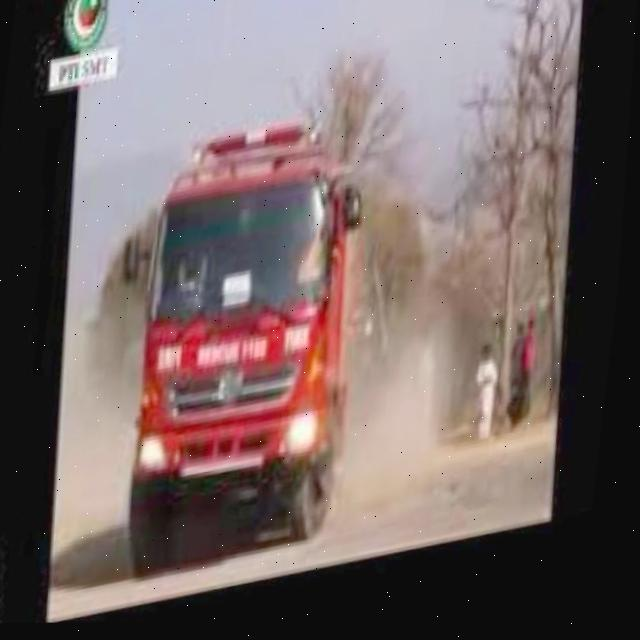emergency: (119, 114, 379, 581)
